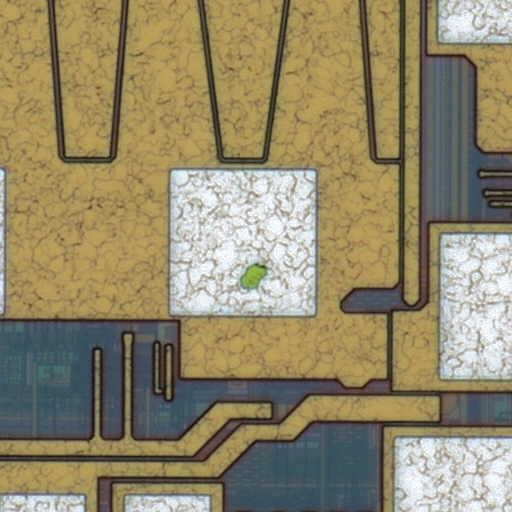BLOCK ETCH: (235, 258, 275, 298)
